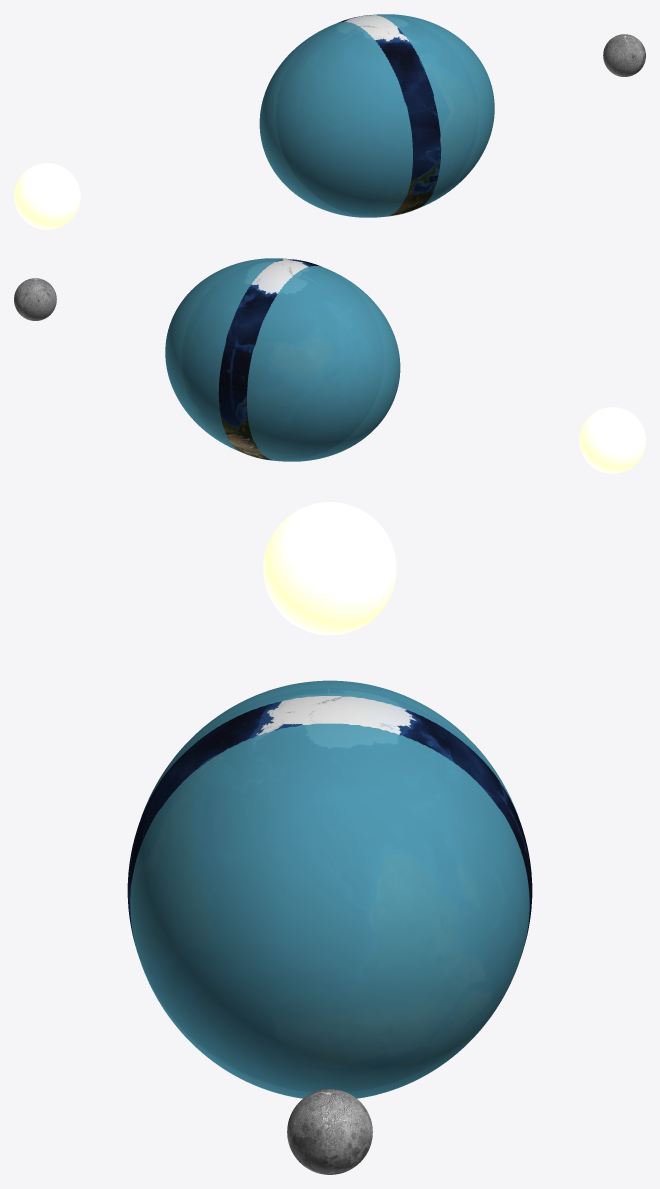
The model's file is tides.glb.
3 renders of one model, top to bottom at view 1: azimuth 30°, elevation 25°; view 2: azimuth 150°, elevation 25°; view 3: azimuth 270°, elevation 25°, orthographic. The views are drawn at different scales.
Visible parts, largest first — view 1: Tide_Bulge, Tide_Earth, Tide_Sun, Tide_Moon; view 2: Tide_Bulge, Tide_Earth, Tide_Sun, Tide_Moon; view 3: Tide_Bulge, Tide_Sun, Tide_Earth, Tide_Moon.
Boxes of the visible parts, left/top/right/bottom form: Tide_Bulge: left=259, top=14, right=494, bottom=217; Tide_Earth: left=339, top=15, right=441, bottom=216; Tide_Sun: left=14, top=163, right=80, bottom=229; Tide_Moon: left=603, top=34, right=645, bottom=76; Tide_Bulge: left=165, top=258, right=400, bottom=461; Tide_Earth: left=218, top=259, right=320, bottom=460; Tide_Sun: left=579, top=407, right=645, bottom=473; Tide_Moon: left=14, top=278, right=56, bottom=320; Tide_Bulge: left=130, top=680, right=529, bottom=1098; Tide_Sun: left=263, top=502, right=396, bottom=635; Tide_Earth: left=127, top=695, right=532, bottom=958; Tide_Moon: left=287, top=1089, right=372, bottom=1174.
Bounding box in the file's own units: 6.06 × 1.7 × 1.7.
4 materials, 2 textured.
